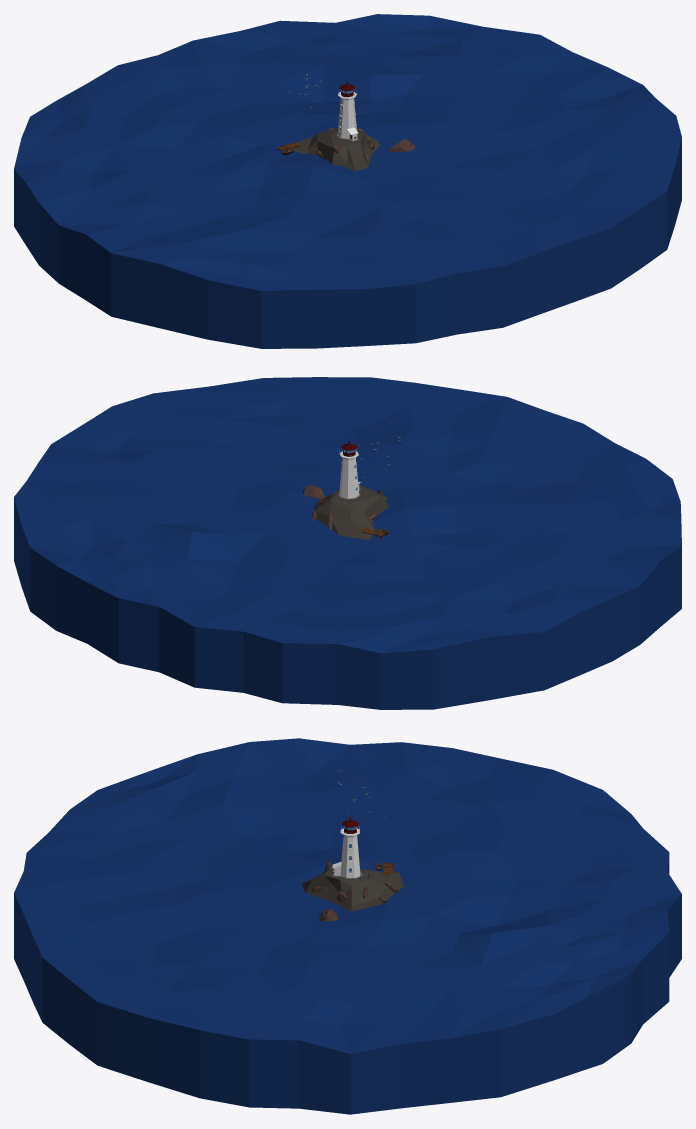
Rendered from lighthouse.fbx.
3 views of the same model, one above another, from view 1: azimuth 30°, elevation 25°; view 2: azimuth 150°, elevation 25°; view 3: azimuth 270°, elevation 25° (orthographic). The views are drawn at different scales.
Visible parts, largest first — view 1: ambient, lighthouse; view 2: ambient, lighthouse; view 3: ambient, lighthouse.
Part boxes in pixels (x1,y1,x2,y2): ambient: (14, 14, 681, 348); lighthouse: (336, 81, 358, 141); ambient: (14, 377, 681, 709); lighthouse: (333, 441, 361, 499); ambient: (14, 738, 681, 1114); lighthouse: (332, 816, 368, 878).
Bounding box in the file's own units: 7980 × 2093 × 7337.
